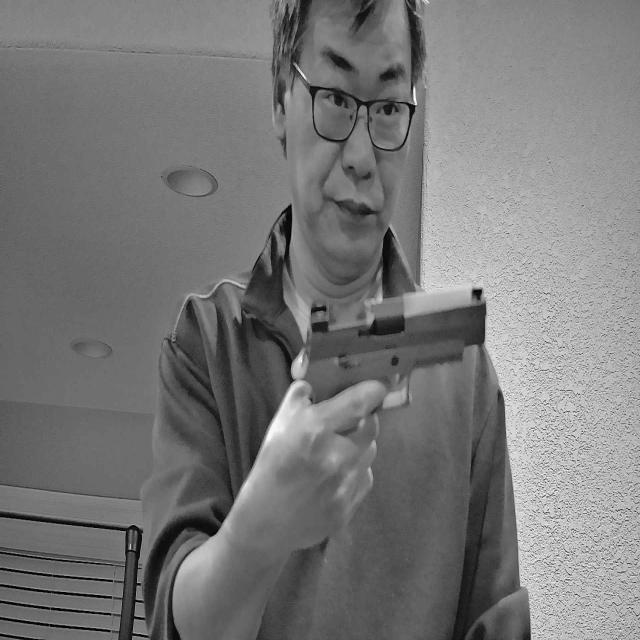Hand-Gun: (298, 300, 492, 489)
